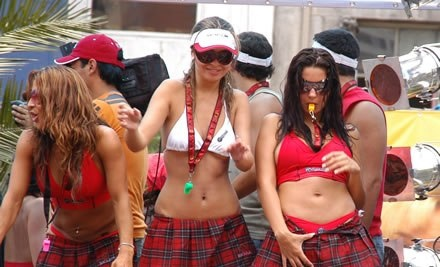head: (25, 65, 89, 143), (289, 49, 336, 121), (189, 18, 236, 90)
person: (123, 11, 257, 267), (1, 55, 152, 267), (253, 46, 371, 267), (320, 27, 390, 267), (226, 29, 286, 266)
